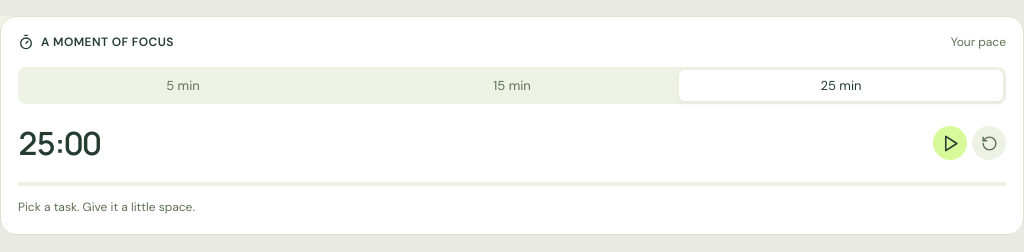
Test: Preferences and timer › pauses, resumes and completes using elapsed wall time
The image size is (1024, 252).
Click the button "5 min": (183, 86) [21,70,345,101]
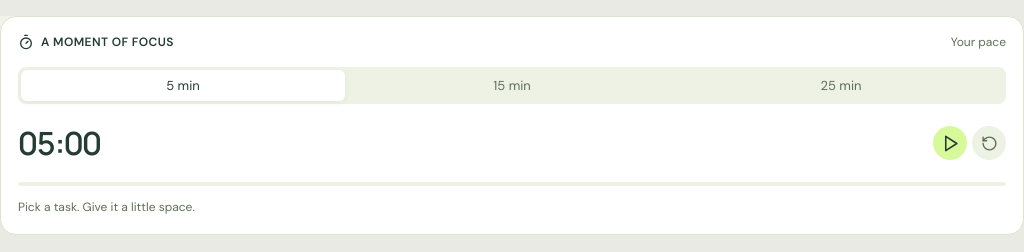
Click the button named "Start focus timer": (950, 143) [933,126,967,160]
Wait 65000 ms
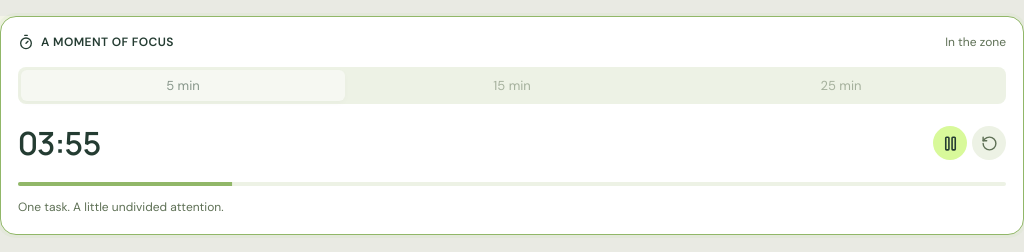
expect the text "03:55" is shown: met, box [18,121,100,165]
Click the button named "Pause focus timer": (950, 143) [933,126,967,160]
Wait 30000 ms
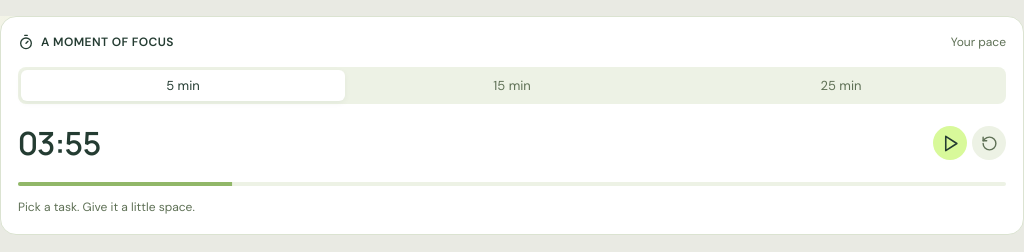
expect the text "03:55" is shown: met, box [18,121,100,165]
Click the button named "Start focus timer": (950, 143) [933,126,967,160]
Wait 235000 ms
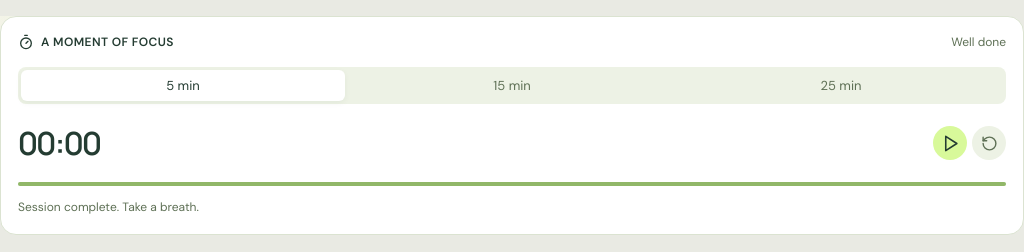
expect the message shows "Session complete": met, box [18,199,199,215]
